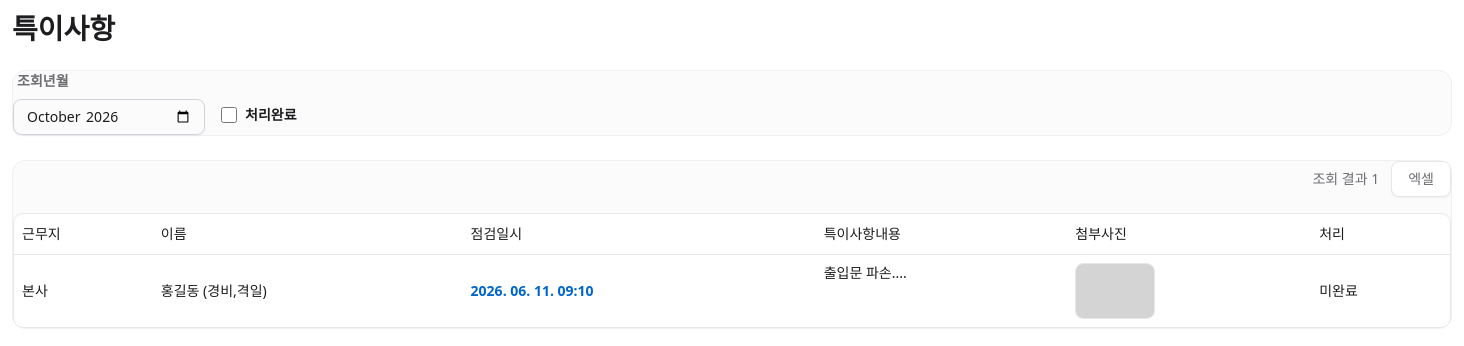
Test: manager special remarks page › preserves the completed filter
Expected: the text "홍길동 (경비,격일)" is shown, [153,254,463,327]
Expected: the text "김철수 (미화,일반)" is not shown
What coordinates should you click on to do the following:
click the checkbox labelled "처리완료"
I would click on:
 (229, 115)
Its box is [221,107,237,123].
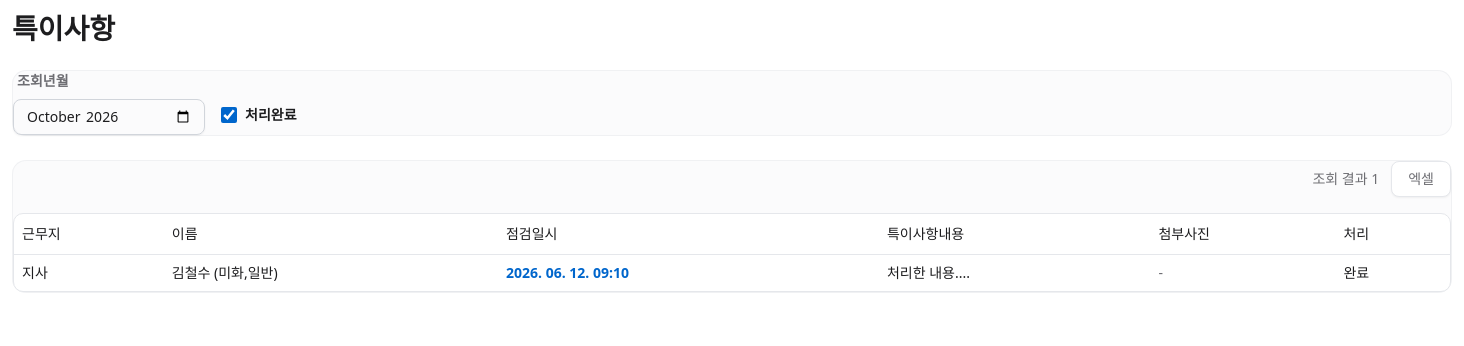
Expected: the text "김철수 (미화,일반)" is shown, [164,254,498,291]
Expected: the text "홍길동 (경비,격일)" is gone
